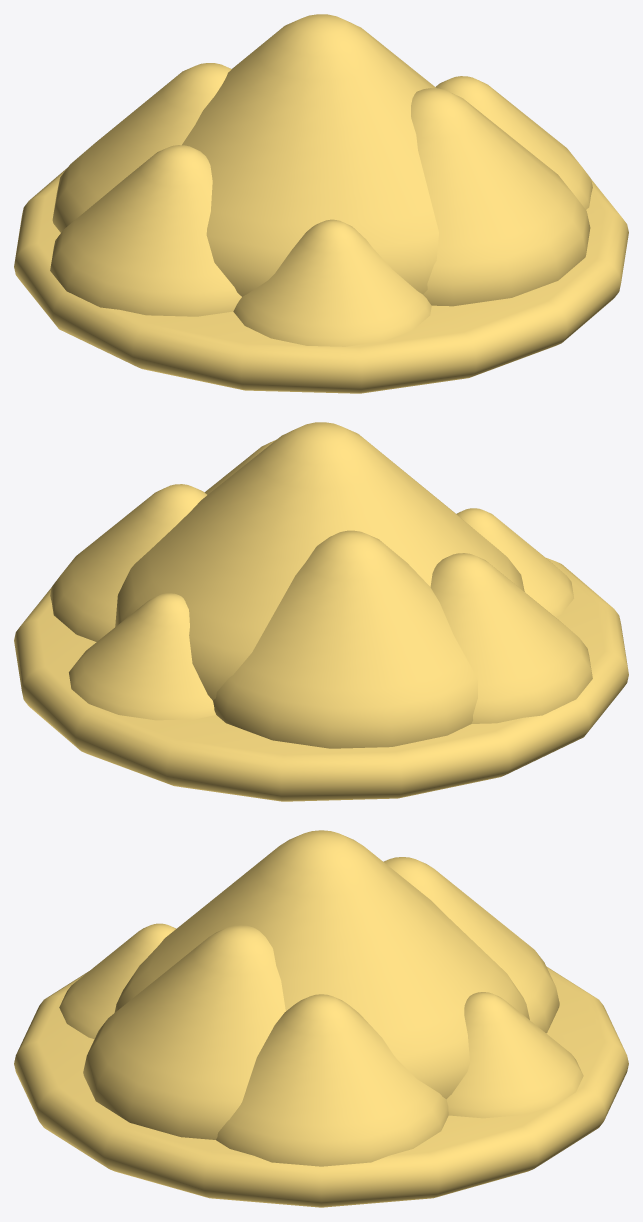
File: LastLuna_Model_Node_Sand_Soil.fbx
3 views of the same model, one above another, from view 1: azimuth 30°, elevation 25°; view 2: azimuth 150°, elevation 25°; view 3: azimuth 270°, elevation 25° (orthographic).
Visible parts, largest first — view 1: Soil001, Soil_Floor001, Soil_Pile004, Soil_Pile001, Soil_Pile006, Soil_Pile003, Soil_Pile002; view 2: Soil001, Soil_Floor001, Soil_Pile003, Soil_Pile001, Soil_Pile005, Soil_Pile002, Soil_Pile006; view 3: Soil001, Soil_Floor001, Soil_Pile004, Soil_Pile002, Soil_Pile005, Soil_Pile003, Soil_Pile006.
Part boxes in pixels (bbox=[...]): Soil001: bbox=[182, 14, 438, 296]; Soil_Floor001: bbox=[14, 167, 628, 393]; Soil_Pile004: bbox=[411, 88, 590, 306]; Soil_Pile001: bbox=[50, 145, 241, 316]; Soil_Pile006: bbox=[233, 219, 431, 346]; Soil_Pile003: bbox=[52, 63, 231, 232]; Soil_Pile002: bbox=[436, 76, 592, 209]; Soil001: bbox=[115, 422, 524, 700]; Soil_Floor001: bbox=[14, 558, 628, 801]; Soil_Pile003: bbox=[213, 530, 477, 748]; Soil_Pile001: bbox=[430, 553, 592, 723]; Soil_Pile005: bbox=[69, 593, 215, 720]; Soil_Pile002: bbox=[50, 484, 206, 641]; Soil_Pile006: bbox=[456, 508, 573, 616]; Soil001: bbox=[114, 830, 529, 1099]; Soil_Floor001: bbox=[14, 966, 628, 1207]; Soil_Pile004: bbox=[83, 925, 285, 1139]; Soil_Pile002: bbox=[216, 994, 448, 1166]; Soil_Pile005: bbox=[446, 992, 583, 1118]; Soil_Pile003: bbox=[383, 857, 559, 1033]; Soil_Pile006: bbox=[59, 923, 176, 1038].
Bounding box in the file's own units: 37.4 × 16.74 × 37.4.
